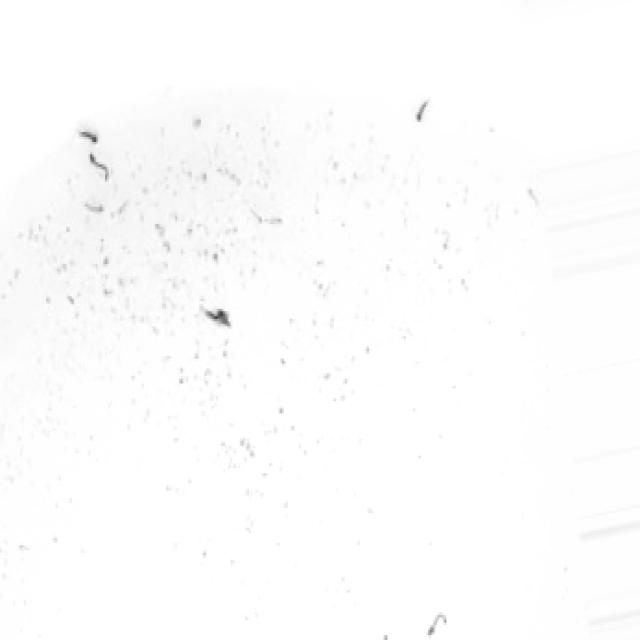larvas: (202, 305, 229, 328), (89, 155, 110, 183), (429, 612, 449, 635), (84, 198, 107, 214), (416, 97, 430, 123), (78, 128, 99, 143), (266, 215, 284, 228), (529, 184, 539, 206), (254, 207, 264, 226)
